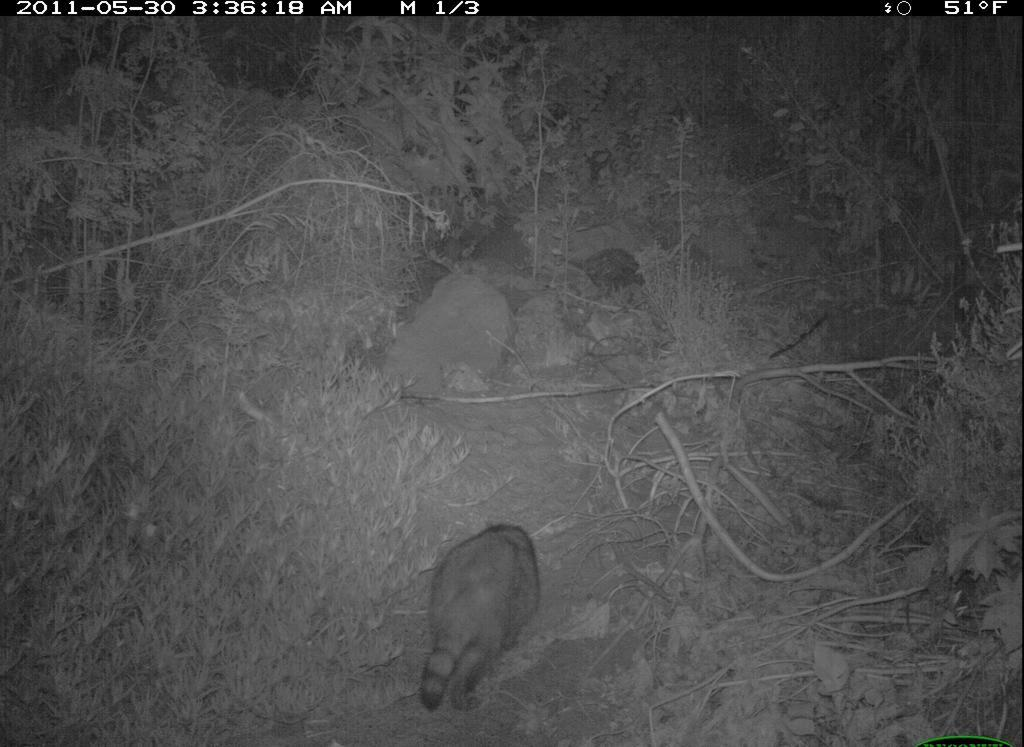raccoon: (408, 519, 546, 724)
